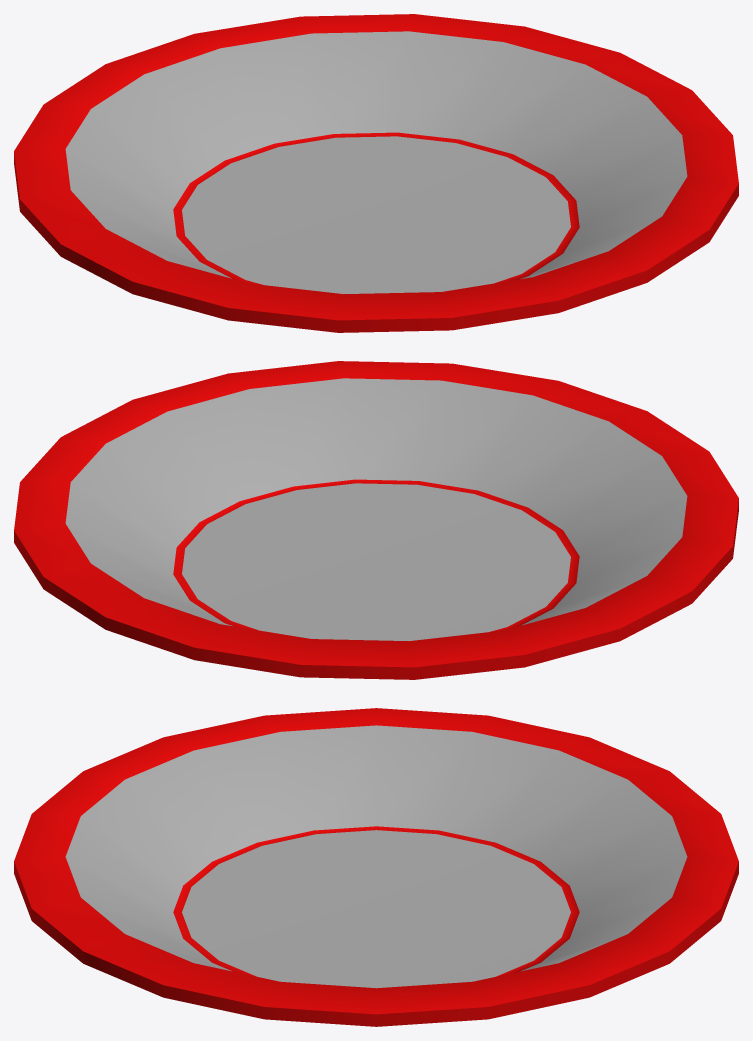
File: plate.fbx
3 renders of one model, top to bottom at view 1: azimuth 30°, elevation 25°; view 2: azimuth 150°, elevation 25°; view 3: azimuth 270°, elevation 25°, orthographic.
Visible parts, largest first — view 1: plate; view 2: plate; view 3: plate.
Part boxes in pixels (x1,y1,x2,y2): plate: [14, 14, 738, 332]; plate: [14, 361, 738, 679]; plate: [14, 708, 738, 1026].
Bounding box in the file's own units: 161 × 18.01 × 161.
